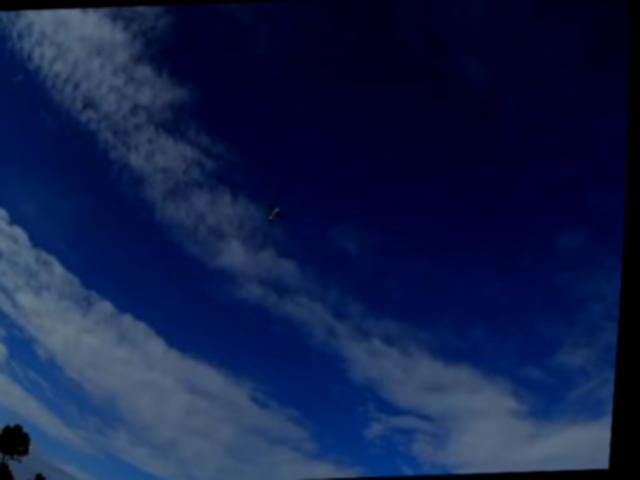uav: (263, 192, 294, 234)
